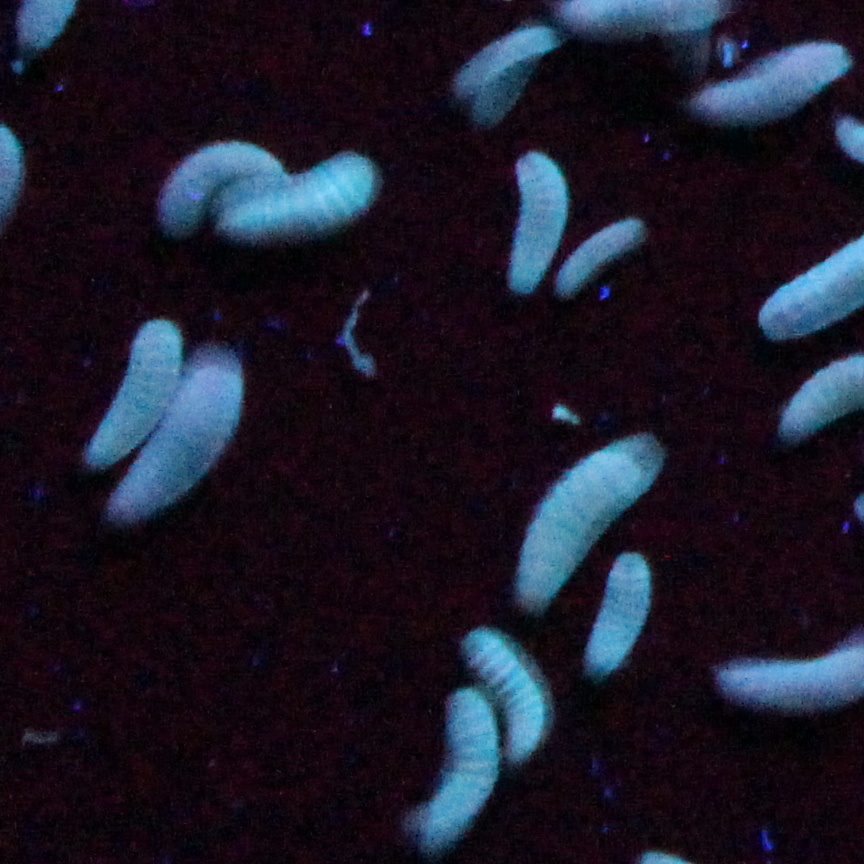larve: (99, 353, 242, 516), (520, 439, 659, 602), (79, 313, 177, 465), (408, 688, 494, 839), (699, 42, 837, 130), (225, 153, 388, 225), (499, 145, 565, 299), (165, 142, 274, 222), (471, 25, 551, 130), (574, 562, 645, 676), (471, 630, 540, 745), (551, 225, 654, 293)
